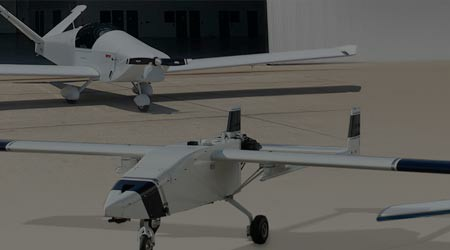maybay_khongnguoilai: (7, 111, 449, 246), (8, 7, 358, 97)
